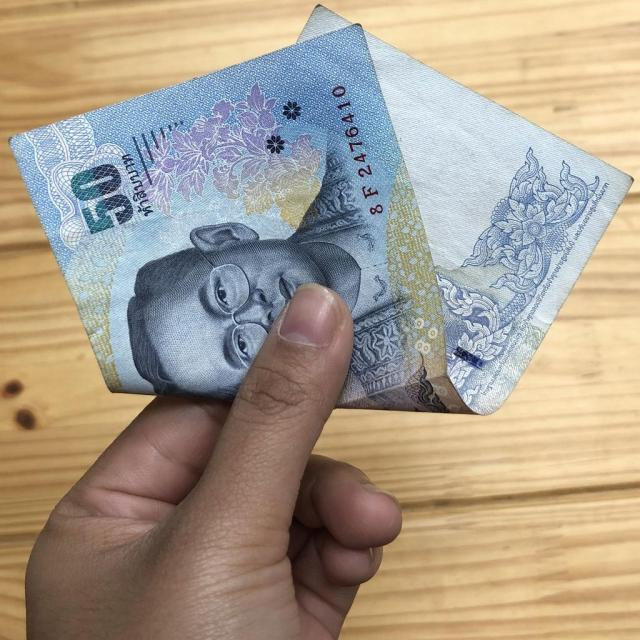THAI50: (11, 6, 632, 413)
